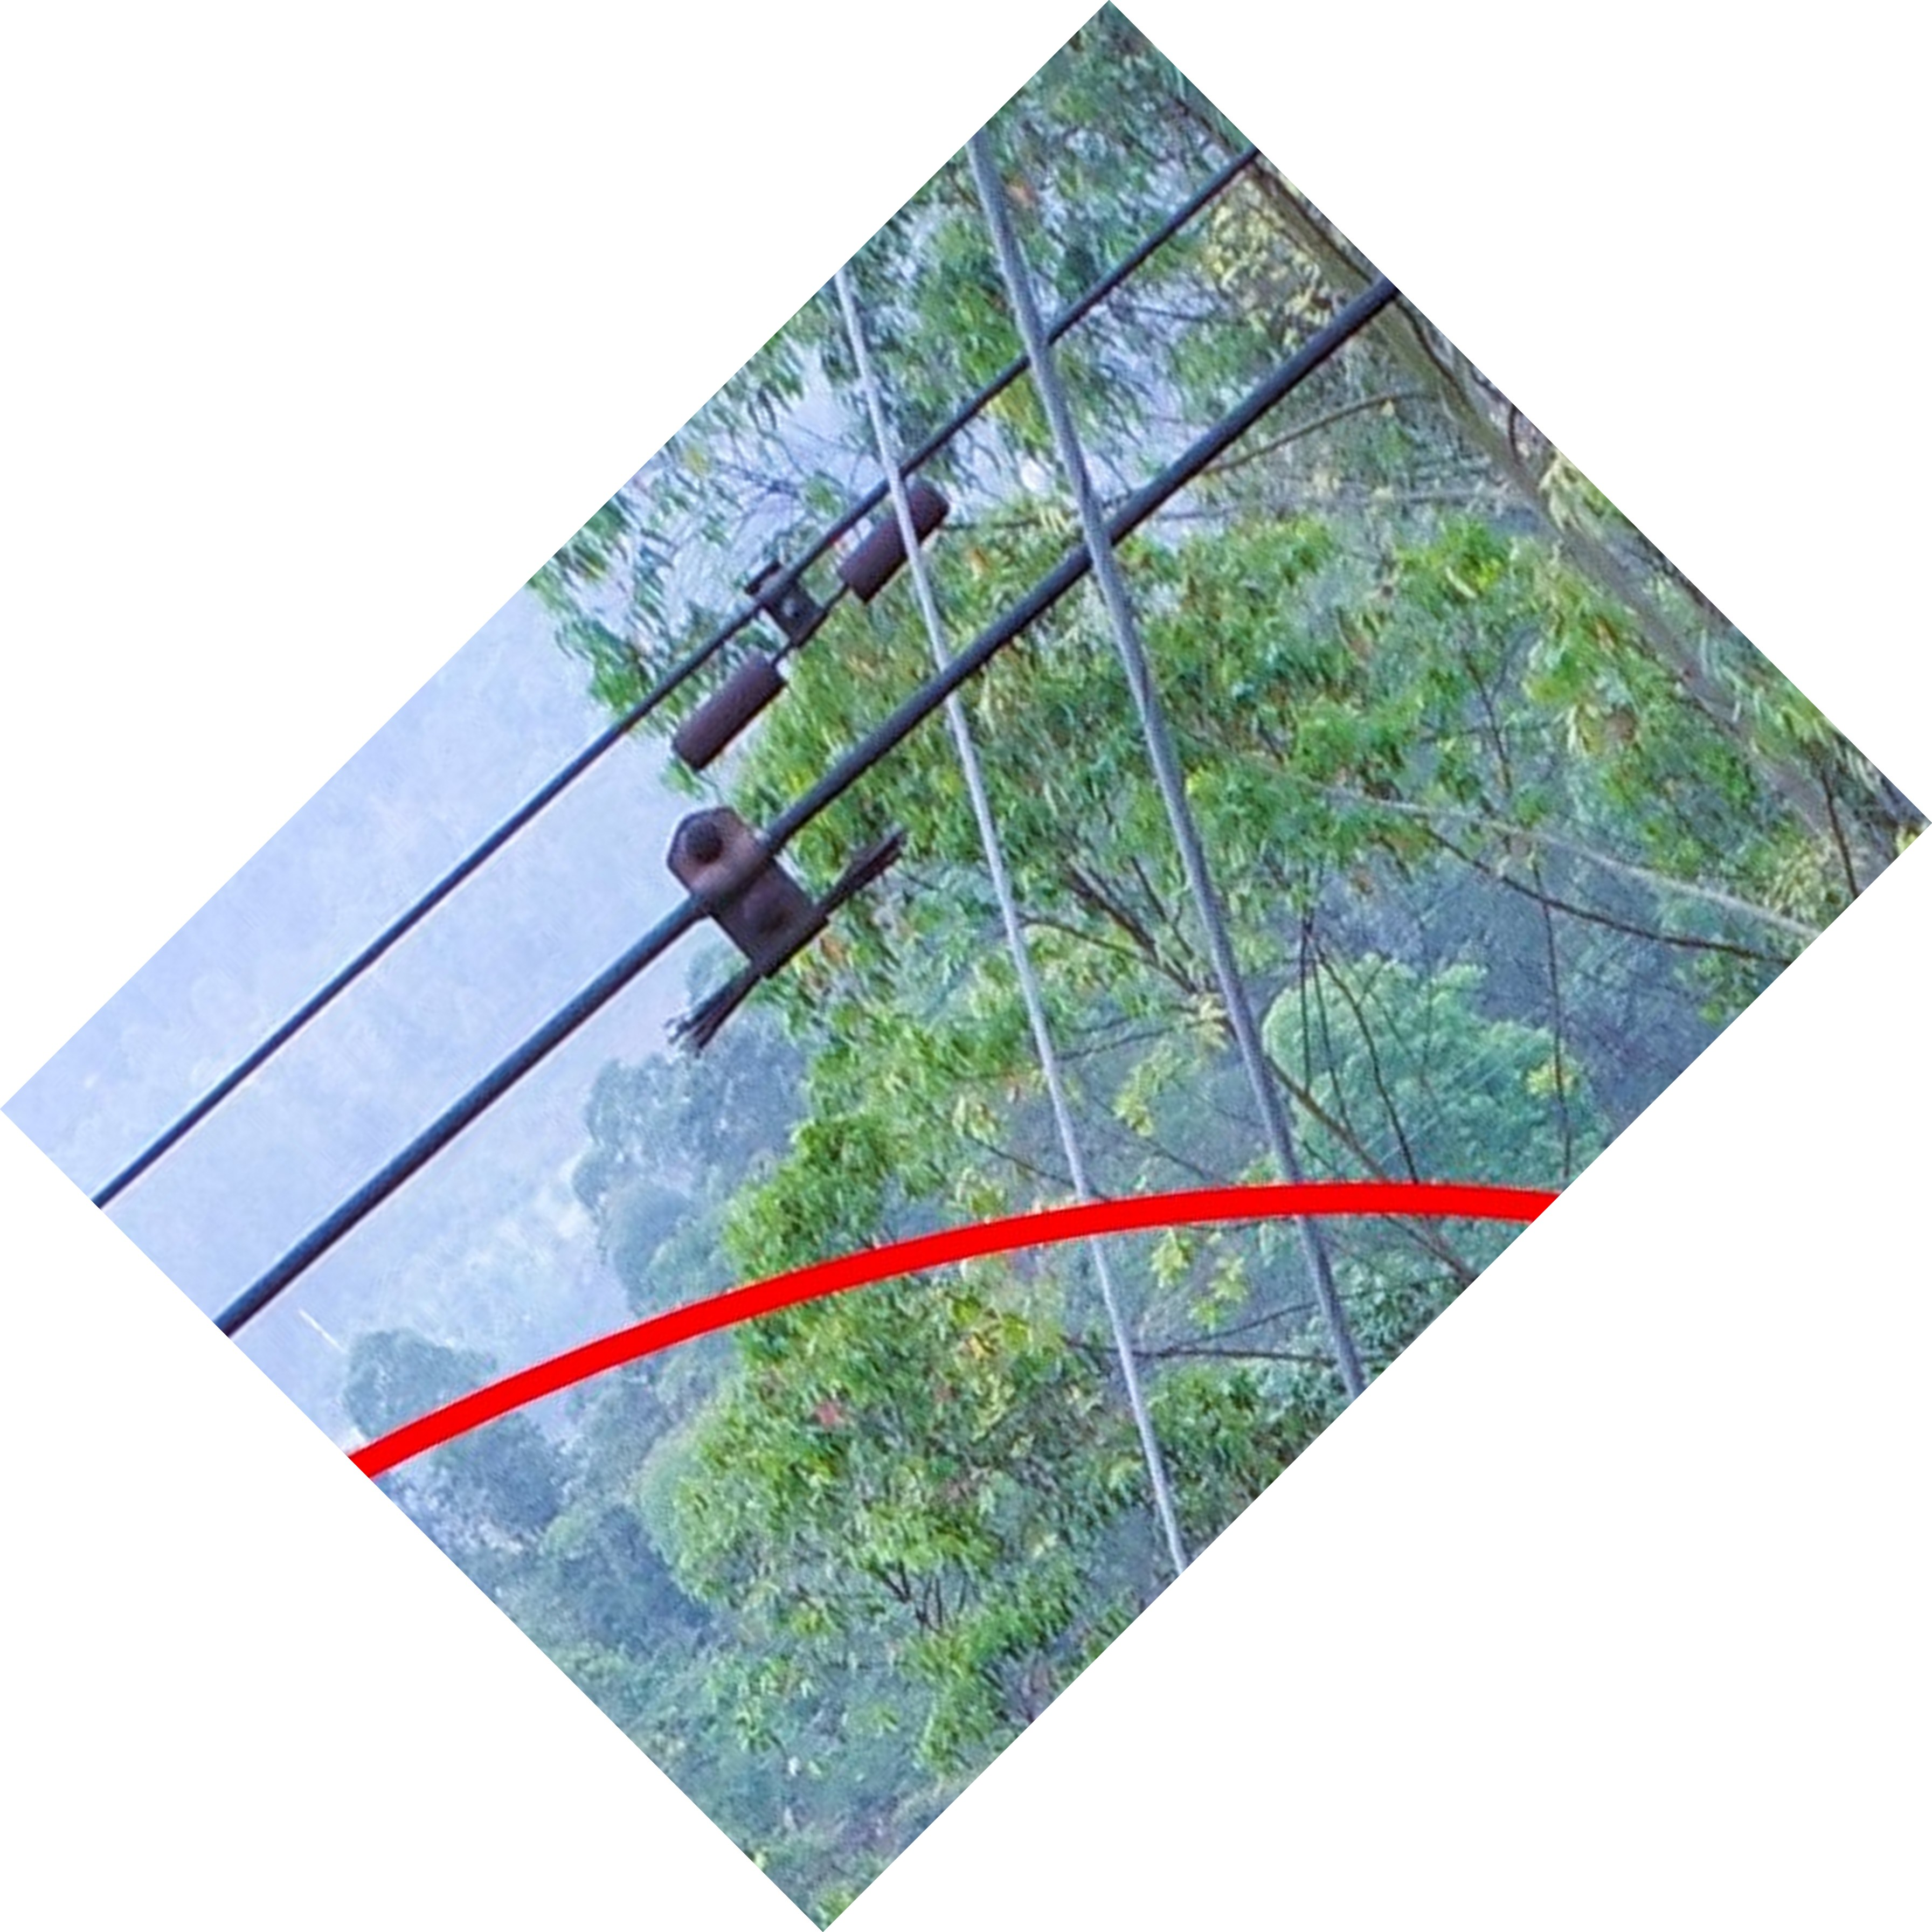Damage of shockproof hammer: (602, 768, 938, 1088)
